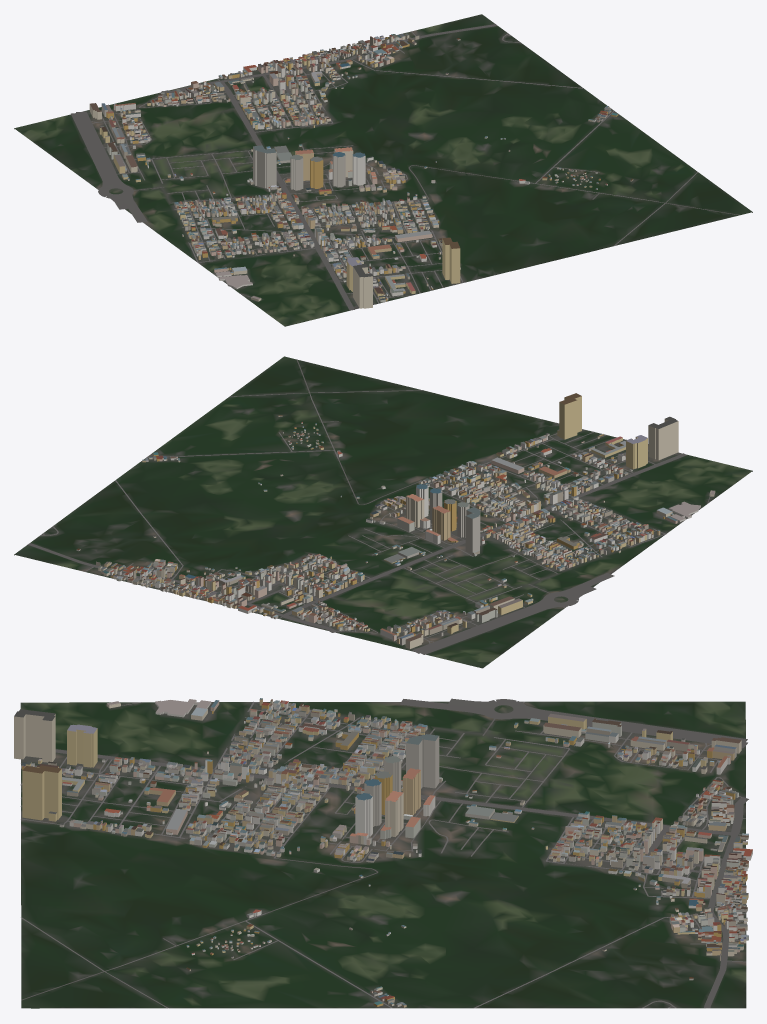
3 views of the same model, one above another, from view 1: azimuth 30°, elevation 25°; view 2: azimuth 150°, elevation 25°; view 3: azimuth 270°, elevation 25° (orthographic). The views are drawn at different scales.
Parts seen in each view (by area): view 1: ground, buildings, roads; view 2: ground, buildings, roads; view 3: ground, buildings, roads.
Boxes of the visible parts, <box> form: ground: <box>14,14,752,326</box>; buildings: <box>89,33,633,308</box>; roads: <box>71,24,739,310</box>; ground: <box>14,356,752,668</box>; buildings: <box>76,393,715,648</box>; roads: <box>27,359,710,654</box>; ground: <box>20,701,746,1008</box>; buildings: <box>14,698,752,1007</box>; roads: <box>20,698,748,1008</box>.
Size of the model in its own units: 1416 by 105 by 1429.
